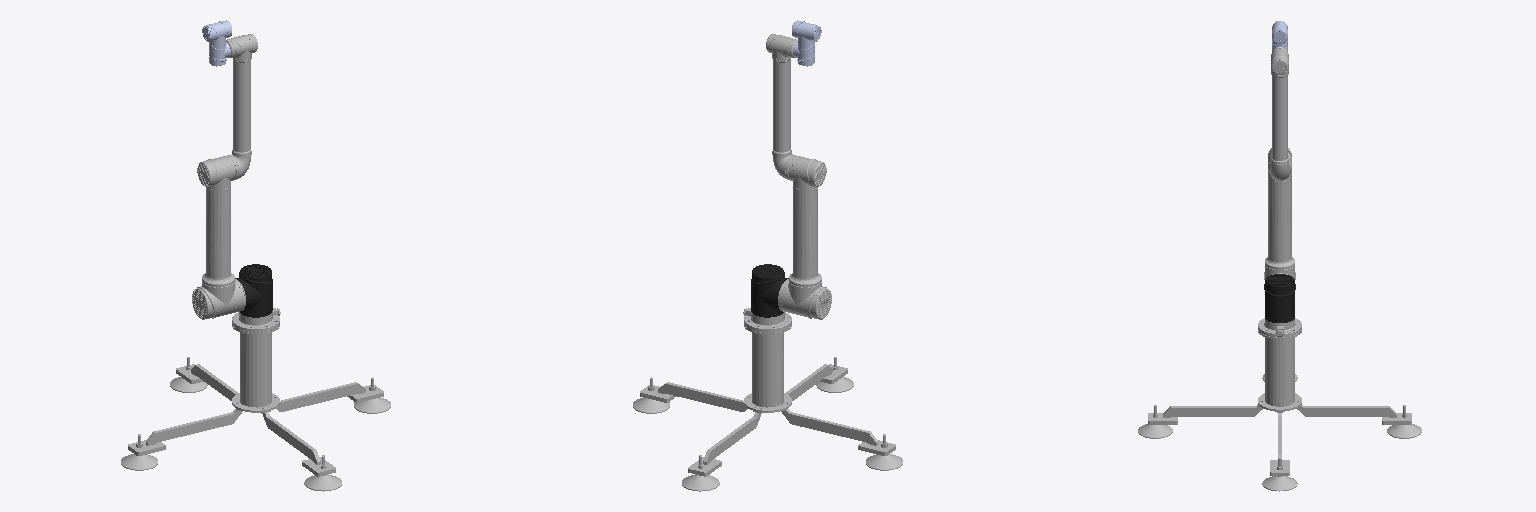
The robot description file, URDF, robot "MATLAB_AUBOI10_URDF":
<?xml version="1.0" encoding="utf-8"?>
<!-- This URDF was automatically created by SolidWorks to URDF Exporter! Originally created by [author] ([email redacted]) 
     Commit Version: 1.6.0-1-g15f4949  Build Version: 1.6.7594.29634
     For more information, please see http://wiki.ros.org/sw_urdf_exporter -->
<robot
  name="MATLAB_AUBOI10_URDF">
  <!-- new World frame -->
  <link name="world"/>
  <joint name="world_joint" type="fixed">
    <parent link="world"/>
    <child link="base_link"/>
    <origin rpy=" 3.1415926536 3.1415926536 0.0" xyz="0.0 0.0 0.0"/>
  </joint>
  <link name="base"/>
  <joint name="base_link_base_fixed_joint" type="fixed">
    <origin rpy="0 0 -3.1415926536" xyz="0.0 0.0 0.0"/>
    <parent link="base_link"/>
    <child link="base"/>
  </joint>

  <link
    name="base_link">
    <inertial>
      <origin
        xyz="-0.000292 -2.2568E-08 -0.28134"
        rpy="0 0 0" />
      <mass
        value="13.382" />
      <inertia
        ixx="0.16469"
        ixy="8.9543E-10"
        ixz="3.5438E-05"
        iyy="0.16509"
        iyz="-6.7529E-09"
        izz="0.12494" />
    </inertial>
    <visual>
      <origin
        xyz="0 0 0"
        rpy="0 0 0" />
      <geometry>
        <mesh
          filename="package://MATLAB_AUBOI10_URDF/meshes/base_link.STL" />
      </geometry>
      <material
        name="">
        <color
          rgba="0.75294 0.75294 0.75294 1" />
      </material>
    </visual>
    <collision>
      <origin
        xyz="0 0 0"
        rpy="0 0 0" />
      <geometry>
        <mesh
          filename="package://MATLAB_AUBOI10_URDF/meshes/base_link.STL" />
      </geometry>
    </collision>
  </link>
  <link
    name="link1">
    <inertial>
      <origin
        xyz="0.0075992 5.6878E-07 -0.0045007"
        rpy="0 0 0" />
      <mass
        value="4.1751" />
      <inertia
        ixx="0.020291"
        ixy="1.9082E-08"
        ixz="-0.00021358"
        iyy="0.021395"
        iyz="-3.9195E-08"
        izz="0.013737" />
    </inertial>
    <visual>
      <origin
        xyz="0 0 0"
        rpy="0 0 0" />
      <geometry>
        <mesh
          filename="package://MATLAB_AUBOI10_URDF/meshes/link1.STL" />
      </geometry>
      <material
        name="">
        <color
          rgba="0.19216 0.19216 0.19216 1" />
      </material>
    </visual>
    <collision>
      <origin
        xyz="0 0 0"
        rpy="0 0 0" />
      <geometry>
        <mesh
          filename="package://MATLAB_AUBOI10_URDF/meshes/link1.STL" />
      </geometry>
    </collision>
  </link>
  <joint
    name="joint1"
    type="revolute">
    <origin
      xyz="0 0 0.16182"
      rpy="0 0 0" />
    <parent
      link="base_link" />
    <child
      link="link1" />
    <axis
      xyz="0 0 1" />
    <limit
      lower="-3.1416"
      upper="3.1416"
      effort="150"
      velocity="30" />
  </joint>
  <link
    name="link2">
    <inertial>
      <origin
        xyz="-0.0003563 -1.2098E-07 0.3406"
        rpy="0 0 0" />
      <mass
        value="23.834" />
      <inertia
        ixx="0.3425"
        ixy="-4.1558E-06"
        ixz="-0.00025501"
        iyy="0.35569"
        iyz="-8.7805E-07"
        izz="0.060404" />
    </inertial>
    <visual>
      <origin
        xyz="0 0 0"
        rpy="0 0 0" />
      <geometry>
        <mesh
          filename="package://MATLAB_AUBOI10_URDF/meshes/link2.STL" />
      </geometry>
      <material
        name="">
        <color
          rgba="0.75294 0.75294 0.75294 1" />
      </material>
    </visual>
    <collision>
      <origin
        xyz="0 0 0"
        rpy="0 0 0" />
      <geometry>
        <mesh
          filename="package://MATLAB_AUBOI10_URDF/meshes/link2.STL" />
      </geometry>
    </collision>
  </link>
  <joint
    name="joint2"
    type="revolute">
    <origin
      xyz="0.197 0 0"
      rpy="0 0 0" />
    <parent
      link="link1" />
    <child
      link="link2" />
    <axis
      xyz="1 0 0" />
    <limit
      lower="-3.1416"
      upper="3.1416"
      effort="150"
      velocity="30" />
  </joint>
  <link
    name="link3">
    <inertial>
      <origin
        xyz="0.004073 2.7005E-07 0.28596"
        rpy="0 0 0" />
      <mass
        value="9.6055" />
      <inertia
        ixx="0.14354"
        ixy="1.2386E-06"
        ixz="0.00030865"
        iyy="0.14392"
        iyz="-4.4879E-08"
        izz="0.00896" />
    </inertial>
    <visual>
      <origin
        xyz="0 0 0"
        rpy="0 0 0" />
      <geometry>
        <mesh
          filename="package://MATLAB_AUBOI10_URDF/meshes/link3.STL" />
      </geometry>
      <material
        name="">
        <color
          rgba="0.75294 0.75294 0.75294 1" />
      </material>
    </visual>
    <collision>
      <origin
        xyz="0 0 0"
        rpy="0 0 0" />
      <geometry>
        <mesh
          filename="package://MATLAB_AUBOI10_URDF/meshes/link3.STL" />
      </geometry>
    </collision>
  </link>
  <joint
    name="joint3"
    type="revolute">
    <origin
      xyz="-0.1235 0 0.647"
      rpy="0 0 0" />
    <parent
      link="link2" />
    <child
      link="link3" />
    <axis
      xyz="1 0 0" />
    <limit
      lower="-3.1416"
      upper="3.1416"
      effort="150"
      velocity="30" />
  </joint>
  <link
    name="link4">
    <inertial>
      <origin
        xyz="0.1252 2.2861E-07 -0.00033227"
        rpy="0 0 0" />
      <mass
        value="0.58941" />
      <inertia
        ixx="0.00086707"
        ixy="1.9633E-08"
        ixz="-2.6933E-07"
        iyy="0.00089713"
        iyz="-7.5636E-09"
        izz="0.00047706" />
    </inertial>
    <visual>
      <origin
        xyz="0 0 0"
        rpy="0 0 0" />
      <geometry>
        <mesh
          filename="package://MATLAB_AUBOI10_URDF/meshes/link4.STL" />
      </geometry>
      <material
        name="">
        <color
          rgba="0.79216 0.81961 0.93333 1" />
      </material>
    </visual>
    <collision>
      <origin
        xyz="0 0 0"
        rpy="0 0 0" />
      <geometry>
        <mesh
          filename="package://MATLAB_AUBOI10_URDF/meshes/link4.STL" />
      </geometry>
    </collision>
  </link>
  <joint
    name="joint4"
    type="revolute">
    <origin
      xyz="0 0 0.6005"
      rpy="0 0 0" />
    <parent
      link="link3" />
    <child
      link="link4" />
    <axis
      xyz="1 0 0" />
    <limit
      lower="-3.1416"
      upper="3.1416"
      effort="150"
      velocity="30" />
  </joint>
  <link
    name="link5">
    <inertial>
      <origin
        xyz="-0.00033227 -2.2861E-07 0.099901"
        rpy="0 0 0" />
      <mass
        value="0.58941" />
      <inertia
        ixx="0.00047706"
        ixy="7.5636E-09"
        ixz="-2.6933E-07"
        iyy="0.00089713"
        iyz="-1.9633E-08"
        izz="0.00086707" />
    </inertial>
    <visual>
      <origin
        xyz="0 0 0"
        rpy="0 0 0" />
      <geometry>
        <mesh
          filename="package://MATLAB_AUBOI10_URDF/meshes/link5.STL" />
      </geometry>
      <material
        name="">
        <color
          rgba="0.79216 0.81961 0.93333 1" />
      </material>
    </visual>
    <collision>
      <origin
        xyz="0 0 0"
        rpy="0 0 0" />
      <geometry>
        <mesh
          filename="package://MATLAB_AUBOI10_URDF/meshes/link5.STL" />
      </geometry>
    </collision>
  </link>
  <joint
    name="joint5"
    type="revolute">
    <origin
      xyz="0.1278 0 0"
      rpy="0 0 0" />
    <parent
      link="link4" />
    <child
      link="link5" />
    <axis
      xyz="0 0 1" />
    <limit
      lower="-3.1416"
      upper="3.1416"
      effort="150"
      velocity="30" />
  </joint>
  <link
    name="link6">
    <inertial>
      <origin
        xyz="0.26205 -0.00072355 0.099397"
        rpy="0 0 0" />
      <mass
        value="1.2274" />
      <inertia
        ixx="0.001807"
        ixy="2.4061E-06"
        ixz="-0.00063247"
        iyy="0.0040888"
        iyz="9.7693E-07"
        izz="0.0028429" />
    </inertial>
    <visual>
      <origin
        xyz="0 0 0"
        rpy="0 0 0" />
      <geometry>
        <mesh
          filename="package://MATLAB_AUBOI10_URDF/meshes/link6.STL" />
      </geometry>
      <material
        name="">
        <color
          rgba="0.75294 0.75294 0.75294 1" />
      </material>
    </visual>
    <collision>
      <origin
        xyz="0 0 0"
        rpy="0 0 0" />
      <geometry>
        <mesh
          filename="package://MATLAB_AUBOI10_URDF/meshes/link6.STL" />
      </geometry>
    </collision>
  </link>
  <joint
    name="joint6"
    type="revolute">
    <origin
      xyz="0 0 0.1025"
      rpy="0 0 0" />
    <parent
      link="link5" />
    <child
      link="link6" />
    <axis
      xyz="1 0 0" />
    <limit
      lower="-3.1416"
      upper="3.1416"
      effort="150"
      velocity="30" />
  </joint>

  <!-- new content -->
  <joint name="ee_fixed_joint" type="fixed">
    <parent link="link6"/>
    <child link="ee_link"/>
    <origin rpy="0.0 0.0 1.57079632679" xyz="0.094 0.0 0.5"/>
  </joint>
  <link name="ee_link">
    <collision>
      <geometry>
        <box size="0.01 0.01 0.01"/>
      </geometry>
      <origin rpy="0 0 0" xyz="-0.01 0 0"/>
    </collision>
  </link>

  <link name="tool0"/>
  <joint name="tool0_fixed_joint" type="fixed">
    <!--origin rpy="-1.57079632679 0 0" xyz="0.566 0.0 0.09"/-->
    <origin rpy="-1.57079632679 0 0" xyz="0.566 0 -0.0091"/>
    <parent link="link6"/>
    <child link="tool0"/>
  </joint>
</robot>

--- What the picture shows (computed from the rendered views, not written in the file) ---
The picture shows the robot from 3 angles, left to right: view 1: azimuth 30°, elevation 25°; view 2: azimuth 150°, elevation 25°; view 3: azimuth 270°, elevation 25°; orthographic projection.
Model MATLAB_AUBOI10_URDF with 11 links and 10 joints (6 revolute, 4 fixed), rooted at world, posed every joint at zero.
Links seen in each view (by area): view 1: base_link, link2, link3, link1, link5; view 2: base_link, link2, link3, link1, link5; view 3: base_link, link2, link3, link1.
Link boxes in pixels (<box>): base_link: <box>121,308,390,491</box>; link2: <box>192,155,245,319</box>; link3: <box>226,34,257,179</box>; link1: <box>235,264,272,317</box>; link5: <box>202,20,231,43</box>; base_link: <box>633,308,902,491</box>; link2: <box>778,155,831,319</box>; link3: <box>766,34,797,179</box>; link1: <box>751,264,788,317</box>; link5: <box>792,20,821,43</box>; base_link: <box>1138,318,1421,491</box>; link2: <box>1264,148,1295,279</box>; link3: <box>1268,48,1291,180</box>; link1: <box>1264,274,1295,322</box>.
Bounding box of the posed robot: 1.4 × 1.4 × 2.11 m (x, y, z).
6 mesh visuals loaded from 7 distinct referenced files (6 binary STL); not drawn: 1 (reference not matched to a file when rendering).
